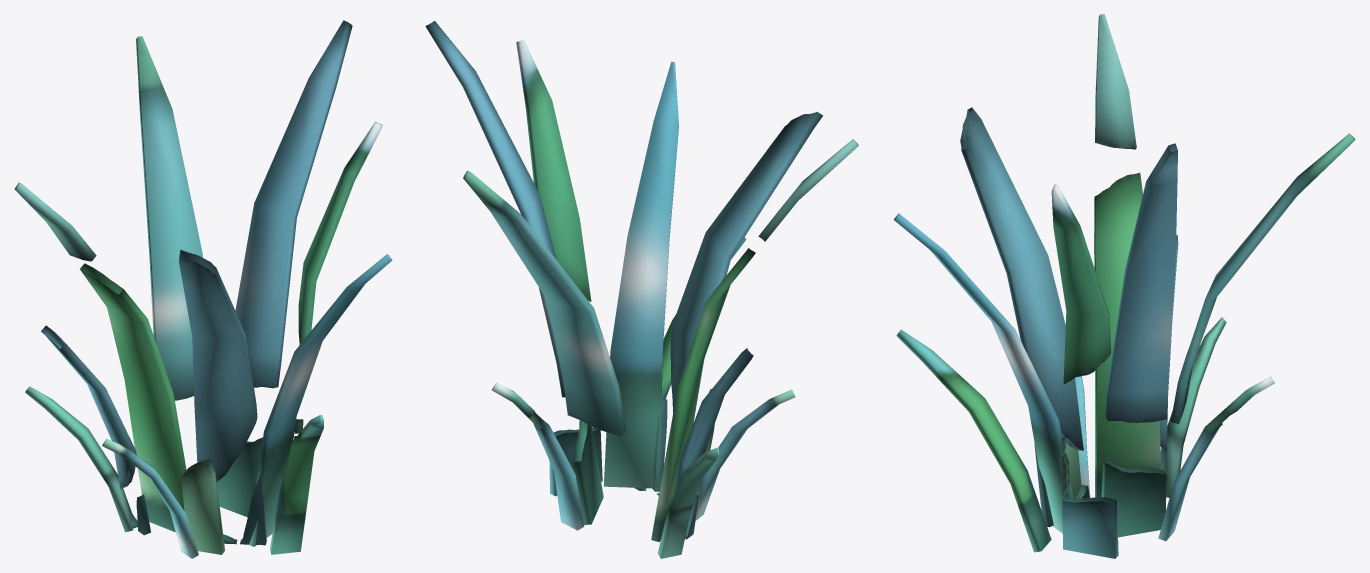
File: grass_2_big.fbx
3 views of the same model, side by side, from view 1: azimuth 30°, elevation 25°; view 2: azimuth 150°, elevation 25°; view 3: azimuth 270°, elevation 25° (orthographic). The views are drawn at different scales.
Visible parts, largest first — view 1: grass_2_big; view 2: grass_2_big; view 3: grass_2_big.
Part boxes in pixels (x1=…): grass_2_big: x1=14, y1=20, x2=392, y2=558; grass_2_big: x1=425, y1=21, x2=858, y2=558; grass_2_big: x1=893, y1=14, x2=1355, y2=558.
Size of the model in its own units: 63.46 by 74.34 by 66.08.
